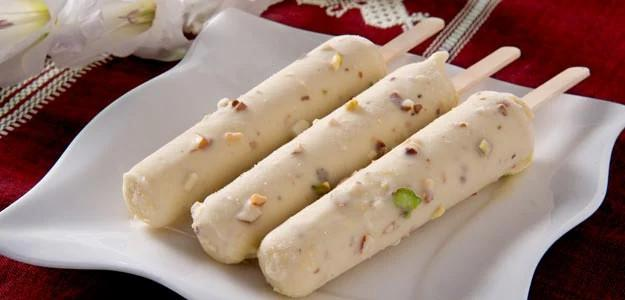Kulfi: (257, 90, 534, 295), (188, 63, 459, 269), (120, 35, 385, 228)
